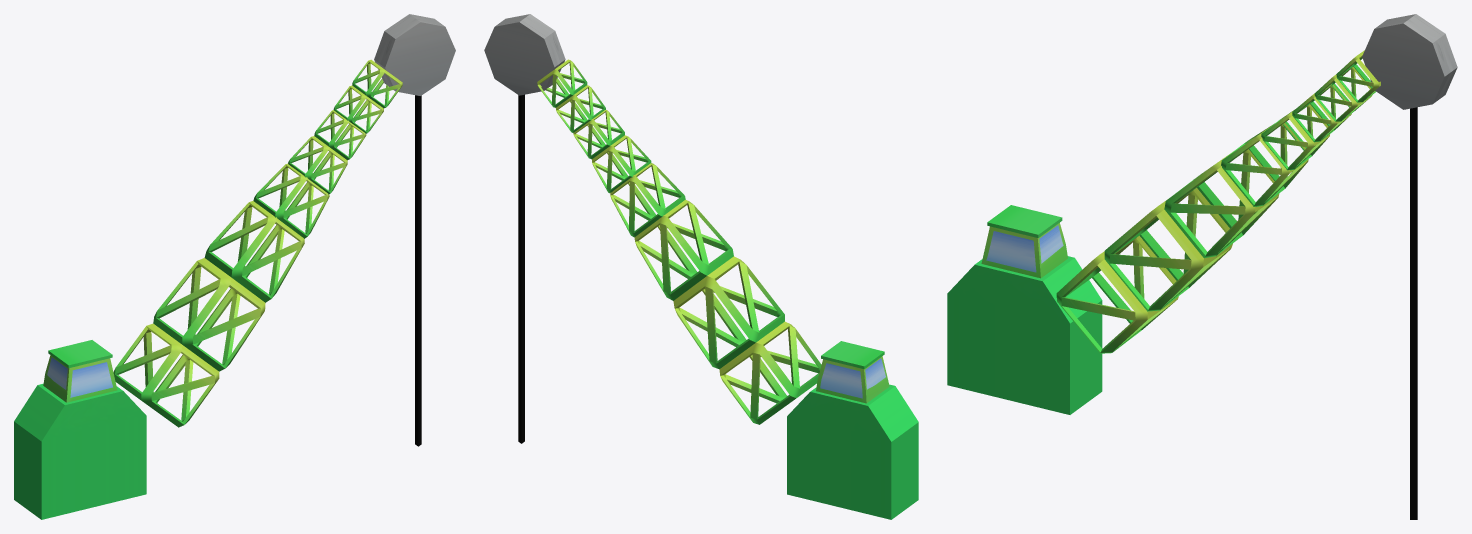
The model's file is Crane.fbx.
3 views of the same model, side by side, from view 1: azimuth 30°, elevation 25°; view 2: azimuth 150°, elevation 25°; view 3: azimuth 330°, elevation 25° (orthographic). The views are drawn at different scales.
Visible parts, largest first — view 1: pCylinder4; view 2: pCylinder4; view 3: pCylinder4.
Part boxes in pixels (bbox=[...]): pCylinder4: bbox=[14, 14, 455, 519]; pCylinder4: bbox=[484, 14, 918, 519]; pCylinder4: bbox=[947, 14, 1457, 519].
Bounding box in the file's own units: 3433 × 3339 × 497.
